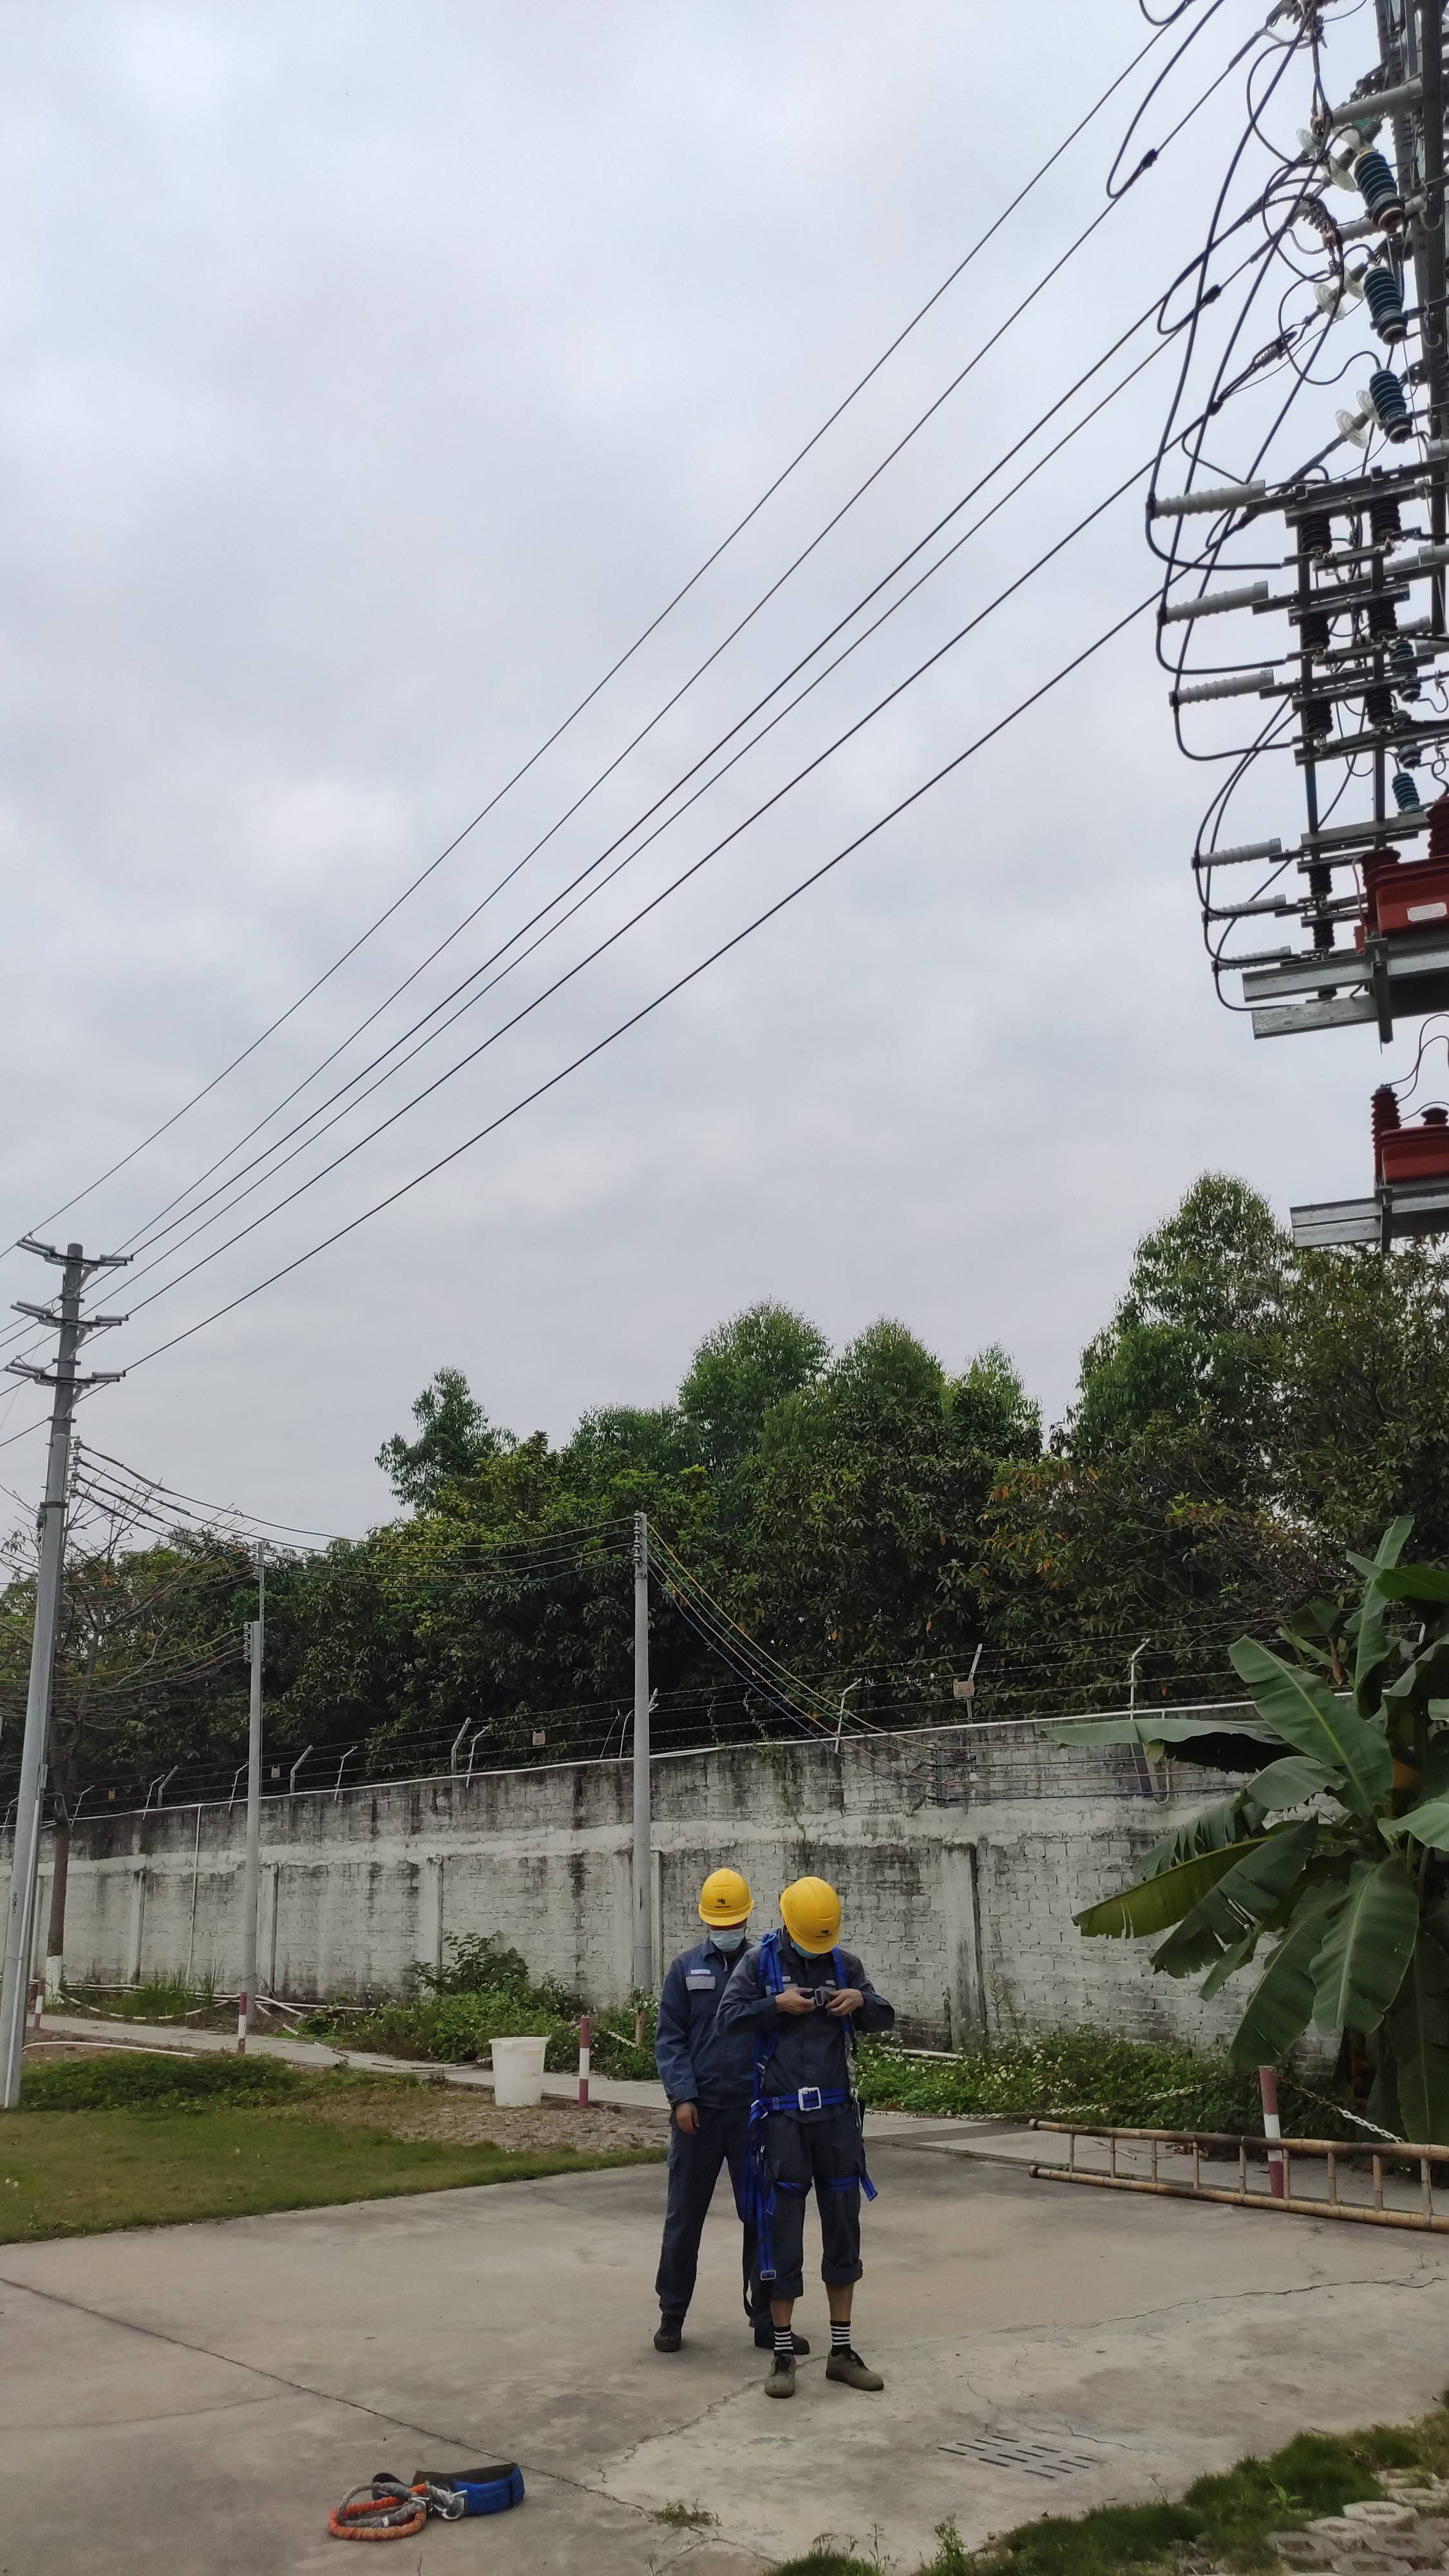downsuit: (754, 2116, 870, 2302), (660, 2109, 750, 2319)
upsuit: (672, 1936, 886, 2105), (734, 1937, 888, 2107), (658, 1943, 770, 2100)
wrongbottom: (819, 2261, 862, 2323), (763, 2273, 803, 2327)
